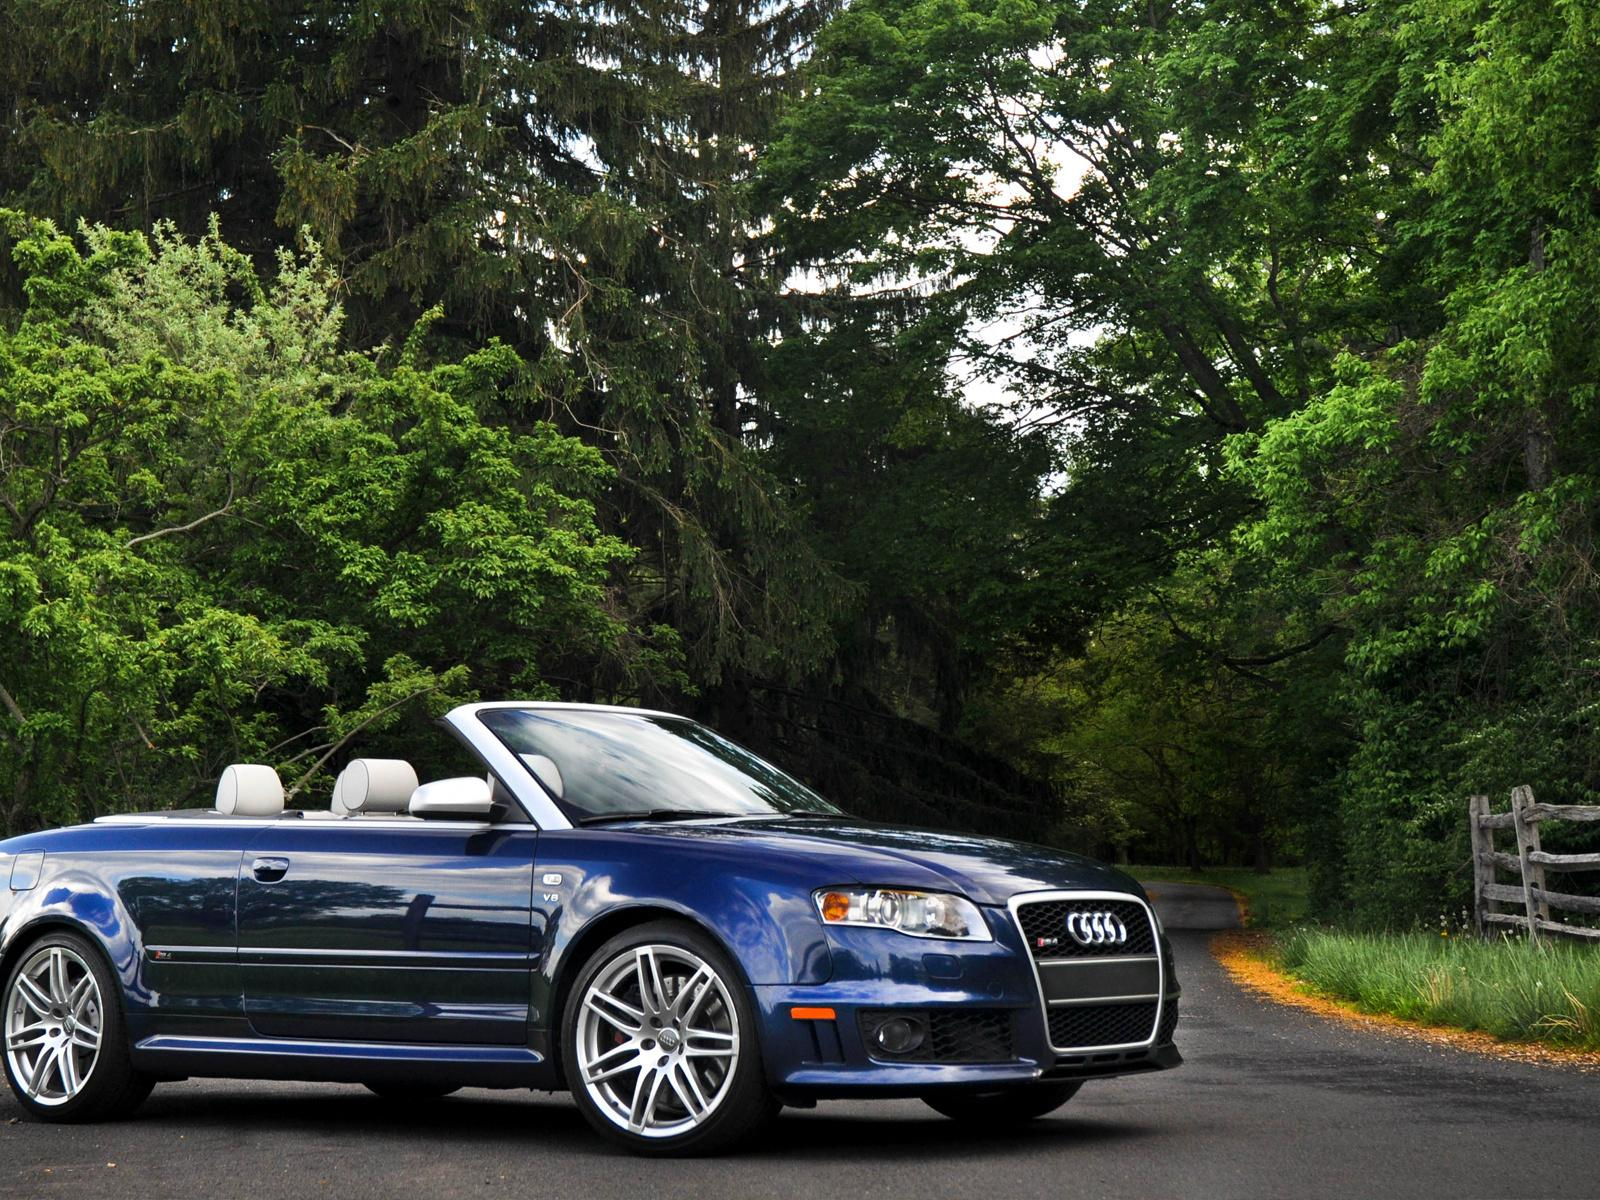Audi: (1061, 899, 1145, 957)
